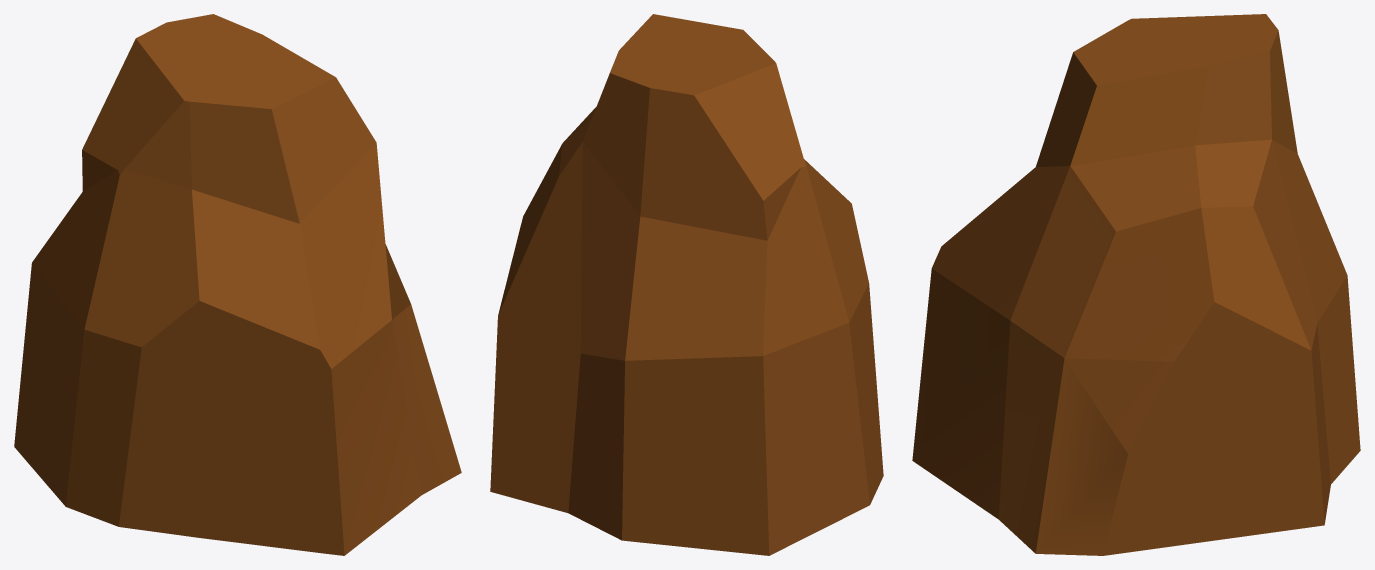
The model's file is HardRock_46.fbx.
3 views of the same model, side by side, from view 1: azimuth 30°, elevation 25°; view 2: azimuth 150°, elevation 25°; view 3: azimuth 270°, elevation 25° (orthographic). The views are drawn at different scales.
Parts seen in each view (by area): view 1: HardRock_46; view 2: HardRock_46; view 3: HardRock_46.
Part boxes in pixels (x1,y1,x2,y2): HardRock_46: [14, 14, 461, 555]; HardRock_46: [490, 14, 883, 555]; HardRock_46: [912, 14, 1360, 555].
Bounding box in the file's own units: 103 × 118 × 111.
